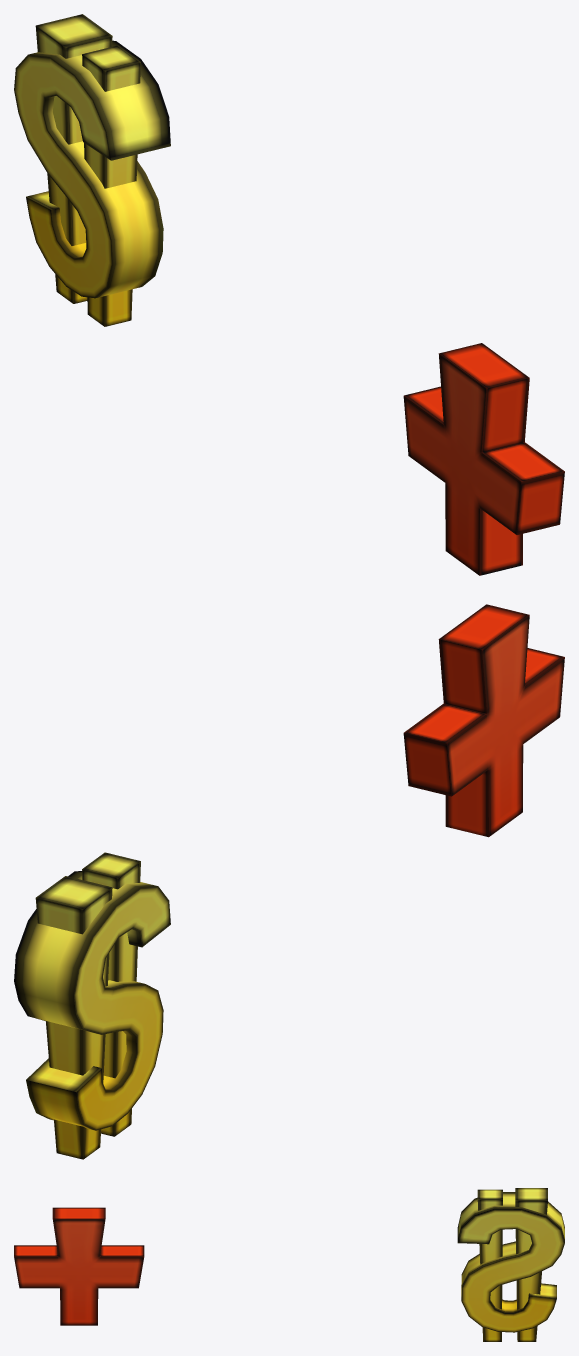
File: hp_and_$.FBX
3 renders of one model, top to bottom at view 1: azimuth 30°, elevation 25°; view 2: azimuth 150°, elevation 25°; view 3: azimuth 270°, elevation 25°, orthographic. The views are drawn at different scales.
Visible parts, largest first — view 1: s, hp; view 2: s, hp; view 3: s, hp.
Part boxes in pixels (<box>): s: <box>14,14,170,326</box>; hp: <box>403,343,564,575</box>; s: <box>14,852,170,1159</box>; hp: <box>403,604,564,837</box>; s: <box>457,1188,564,1341</box>; hp: <box>14,1207,144,1325</box>.
Bounding box in the file's own units: 0.2453 × 0.9216 × 3.2.
